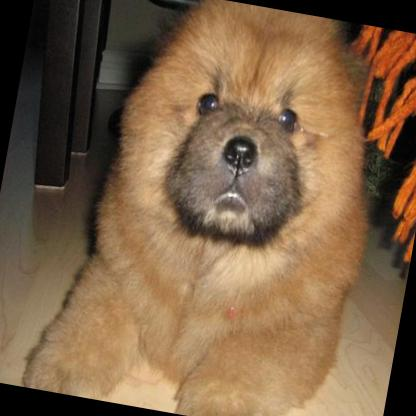chow: (15, 0, 403, 416)
